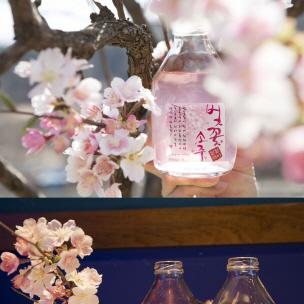soju: (148, 17, 239, 177)
